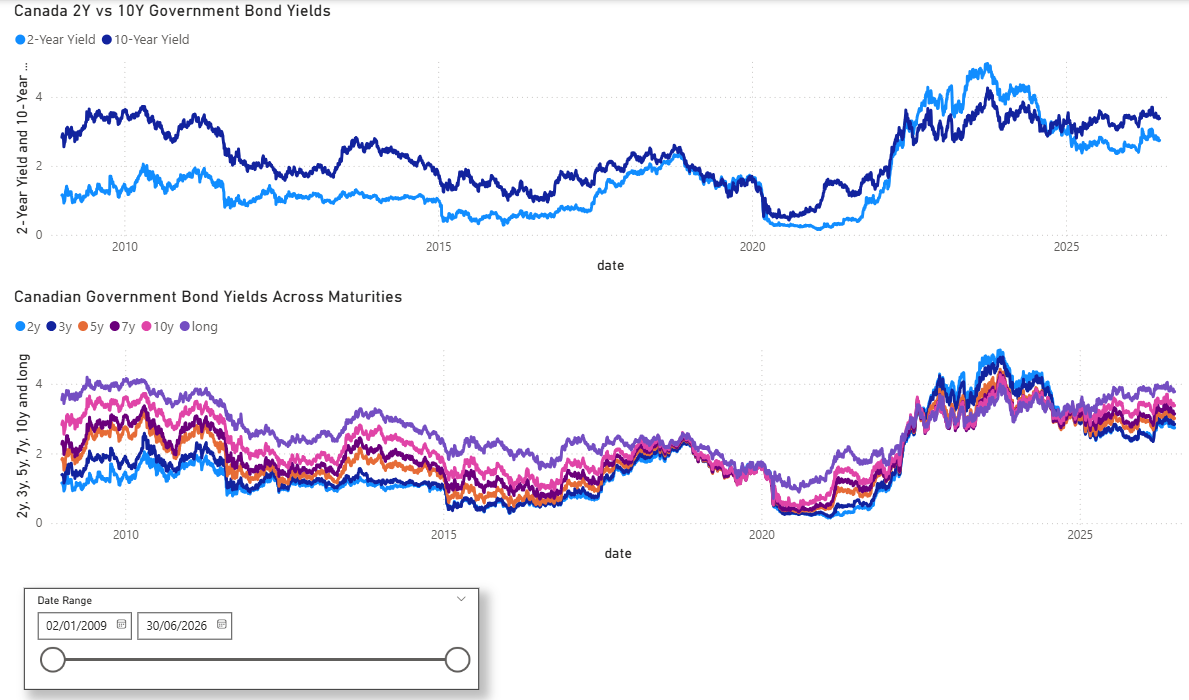

What the dashboard file says about the page in this screenshot:
{"tool":"powerbi","page":{"name":"Yield Curve Comparison","canvas":[1280,720],"ordinal":1},"visuals":[{"type":"lineChart","title":"Canada 2Y vs 10Y Government Bond Yields","fields":{"Category":["BoC Market Data.date"],"Y":["Avg(BoC Market Data.yield_2y)","Avg(BoC Market Data.yield_10y)"]},"box":[9.4,0,1179.2,279.7],"z":0},{"type":"lineChart","title":"Canadian Government Bond Yields Across Maturities","fields":{"Category":["BoC Market Data.date"],"Y":["Avg(BoC Market Data.yield_2y)","Avg(BoC Market Data.yield_3y)","Avg(BoC Market Data.yield_5y)","Avg(BoC Market Data.yield_7y)","Avg(BoC Market Data.yield_10y)","Avg(BoC Market Data.yield_long)"]},"box":[9.4,289.1,1194.3,281.6],"z":1000},{"type":"slicer","fields":{"Values":["Spread Volatility Data.date"]},"box":[23.9,593.7,459.5,102.9],"z":2000}]}

Visuals, with their boxes on the page's 1280x720 design canvas (x1, y1, x2, y2). These are canvas units, not pixel positions in the 1189x700 screenshot, which may show the page scaled, cropped or inside an application window:
"Canada 2Y vs 10Y Government Bond Yields" lineChart: 9,0,1189,280
"Canadian Government Bond Yields Across Maturities" lineChart: 9,289,1204,571
slicer - Spread Volatility Data.date: 24,594,483,697
